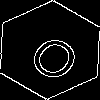O: (25, 25, 89, 85)
